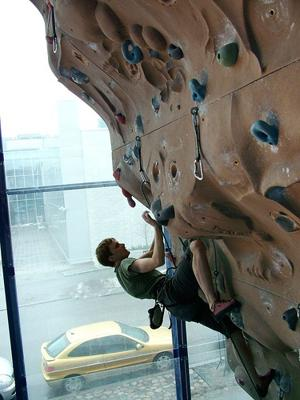person: (96, 211, 277, 400)
